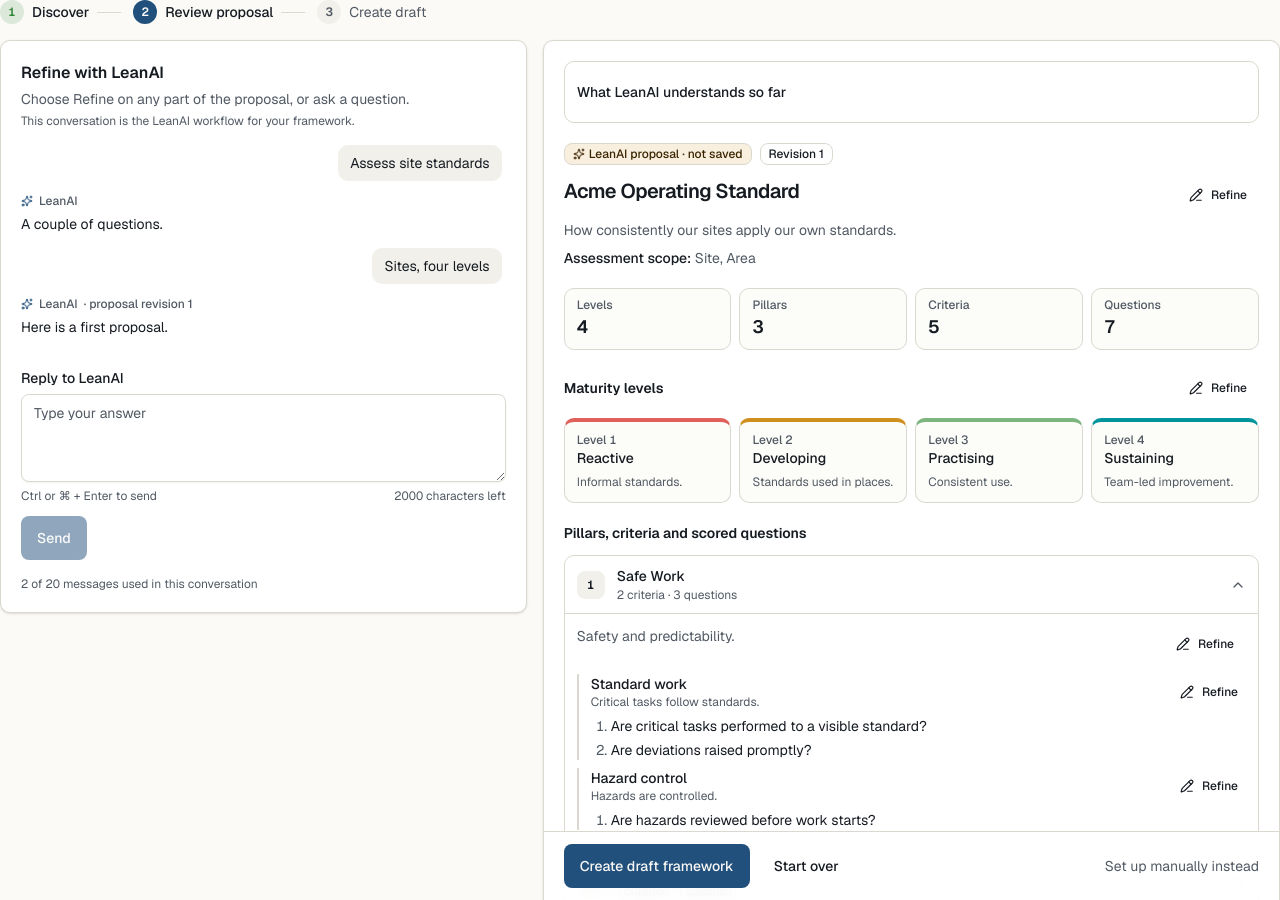
Scenario: MaturityBuilderWorkspace › shows create errors inside the dialog
The width and height of the screenshot is (1280, 900).
Click the button with test id "maturity-builder-create-draft" at (657, 866), box [564,844,750,888]
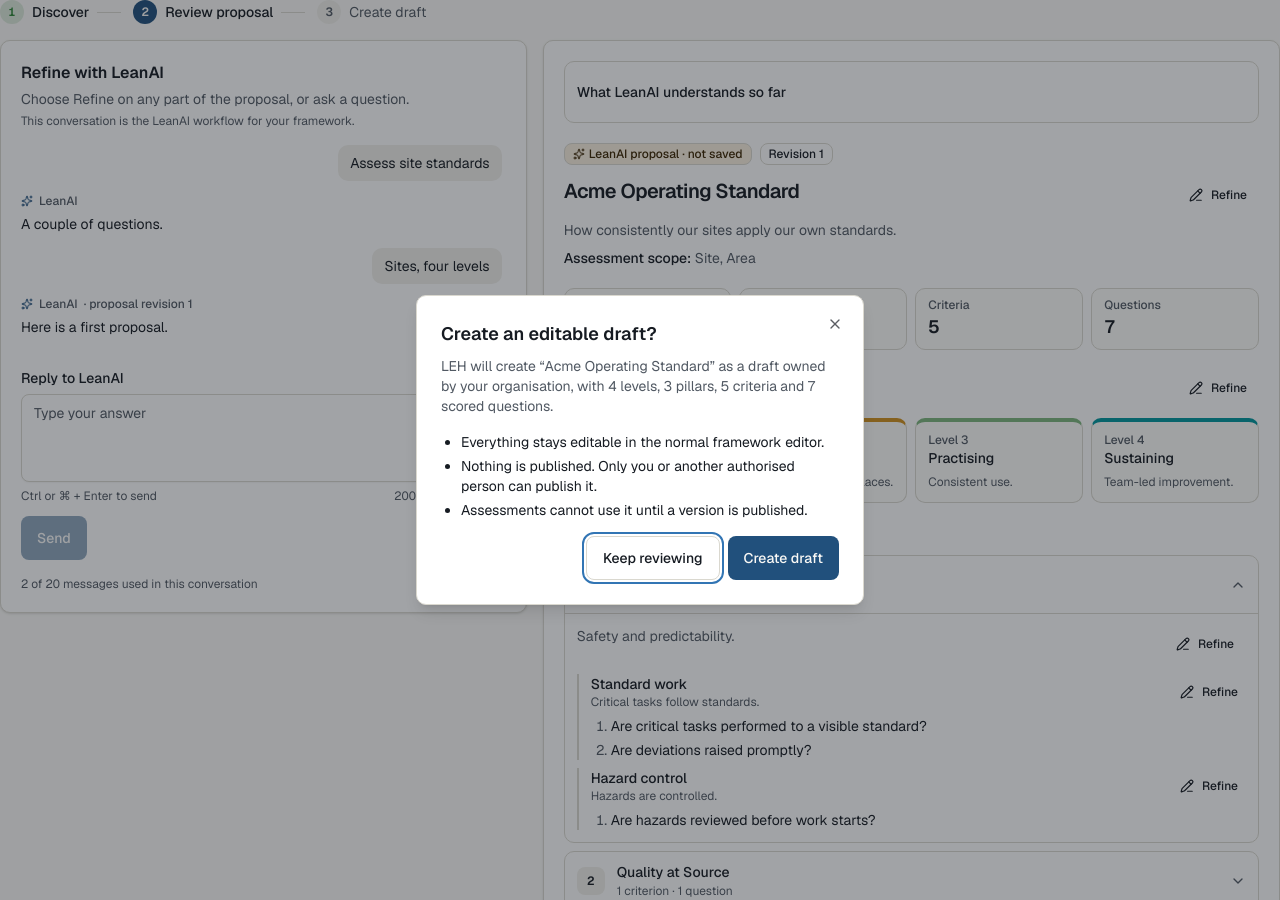
Click the button with test id "maturity-builder-confirm-create" at (783, 558), box [728,536,839,580]
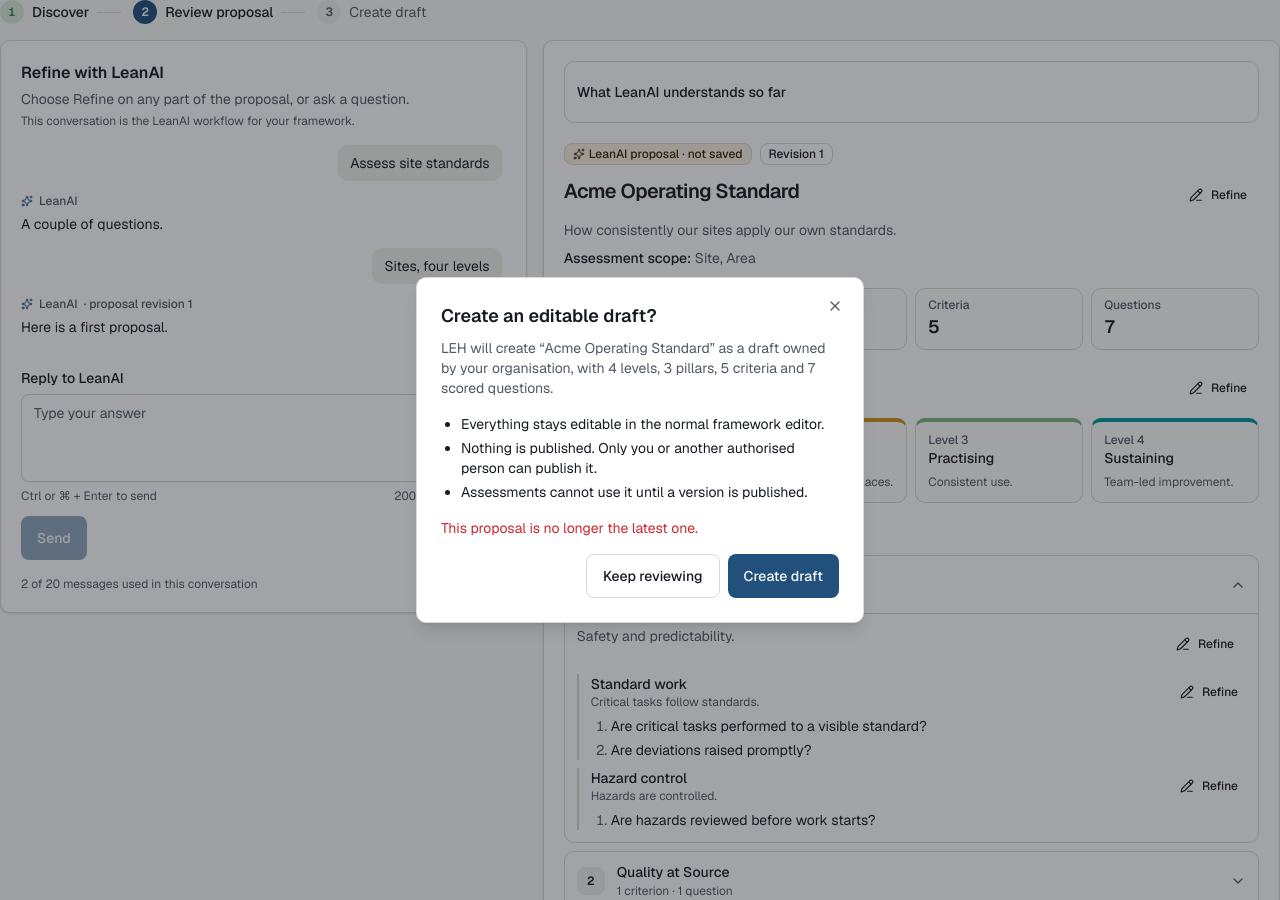
Expected: the message with test id "maturity-builder-create-error" shows "no longer the latest", [441,519,698,537]
